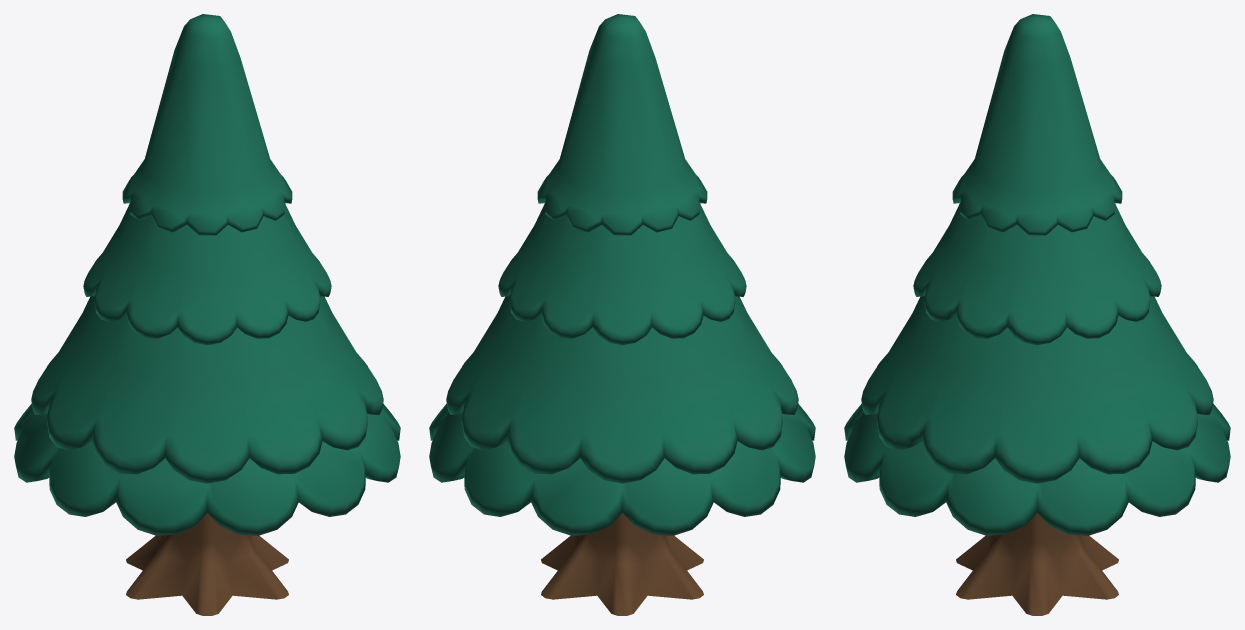
Rendered from pine-13.glb.
The picture shows the model from 3 angles, left to right: view 1: azimuth 30°, elevation 25°; view 2: azimuth 150°, elevation 25°; view 3: azimuth 270°, elevation 25°; orthographic projection.
Parts seen in each view (by area): view 1: pine 13; view 2: pine 13; view 3: pine 13.
Part boxes in pixels (x1=…): pine 13: x1=14, y1=14, x2=400, y2=615; pine 13: x1=429, y1=14, x2=815, y2=615; pine 13: x1=844, y1=14, x2=1230, y2=615.
Bounding box in the file's own units: 1.66 × 2.65 × 1.66.
Materials: 1 (1 with a texture image).
